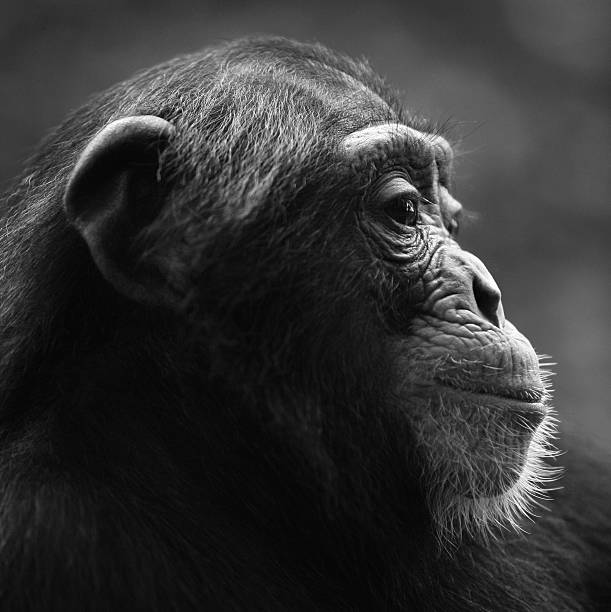chimpanzee: (7, 30, 577, 557)
